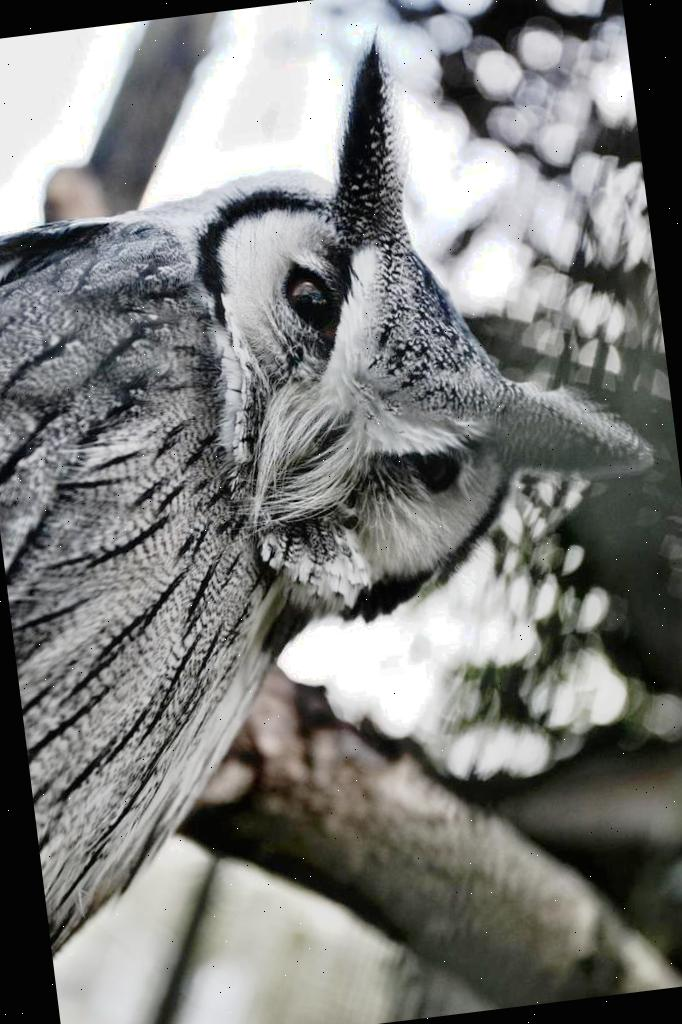Owl: (0, 1, 682, 957)
